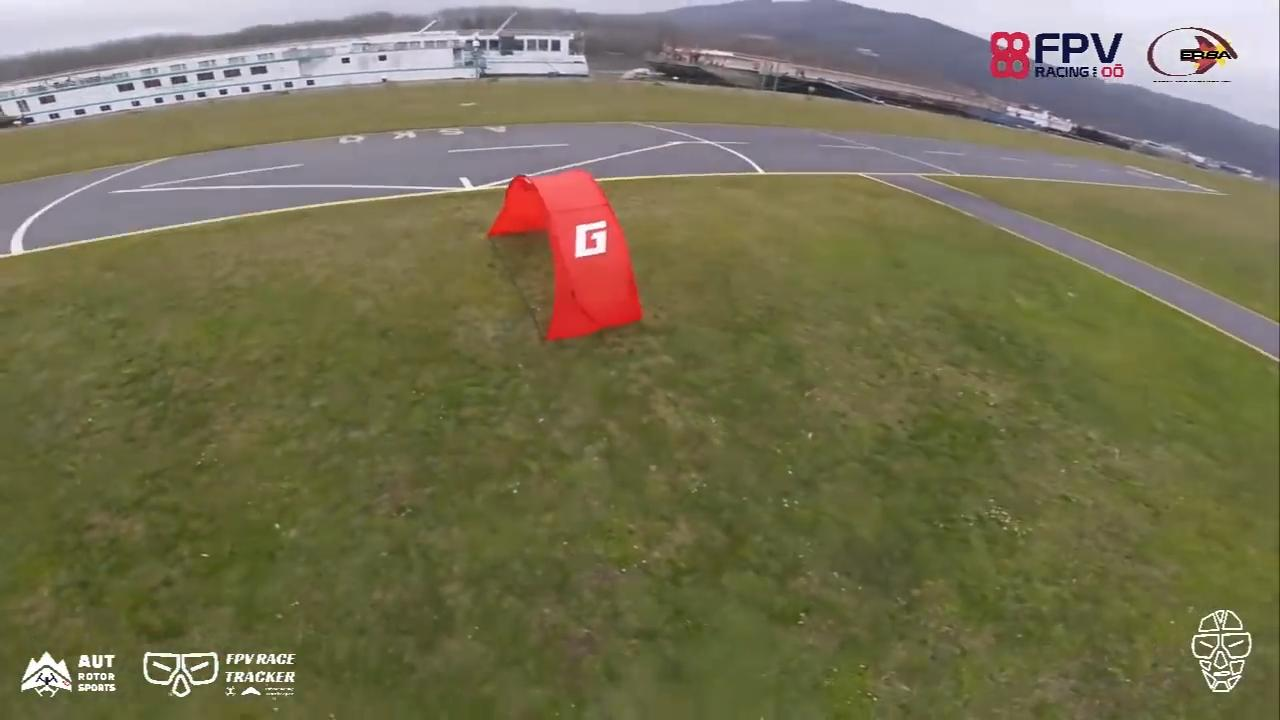gate: (488, 171, 643, 343)
